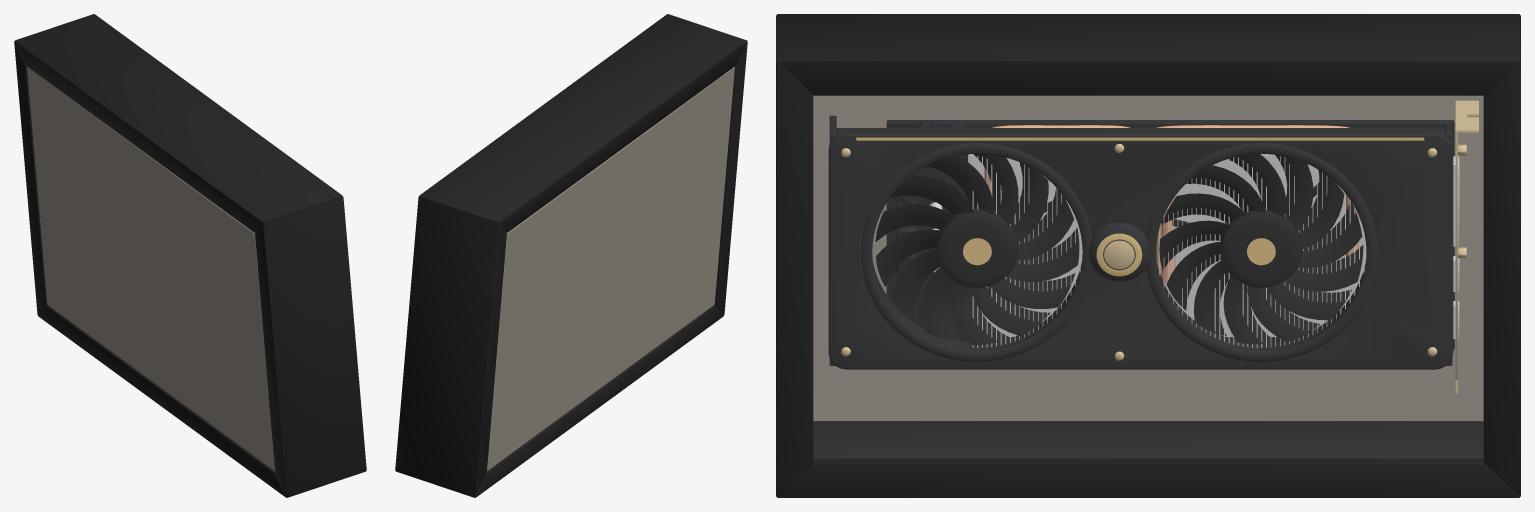
The model's file is gpu_frame.fbx.
The picture shows the model from 3 angles, left to right: view 1: azimuth 30°, elevation 25°; view 2: azimuth 150°, elevation 25°; view 3: azimuth 270°, elevation 25°; orthographic projection. The views are drawn at different scales.
Visible parts, largest first — view 1: gpu_frame; view 2: gpu_frame; view 3: gpu_frame.
Boxes of the visible parts, box(x1,y1,x2,y2) form: gpu_frame: box(14, 14, 366, 497); gpu_frame: box(395, 14, 747, 497); gpu_frame: box(776, 14, 1520, 497).
Size of the model in its own units: 0.0771 by 0.32 by 0.2043.
